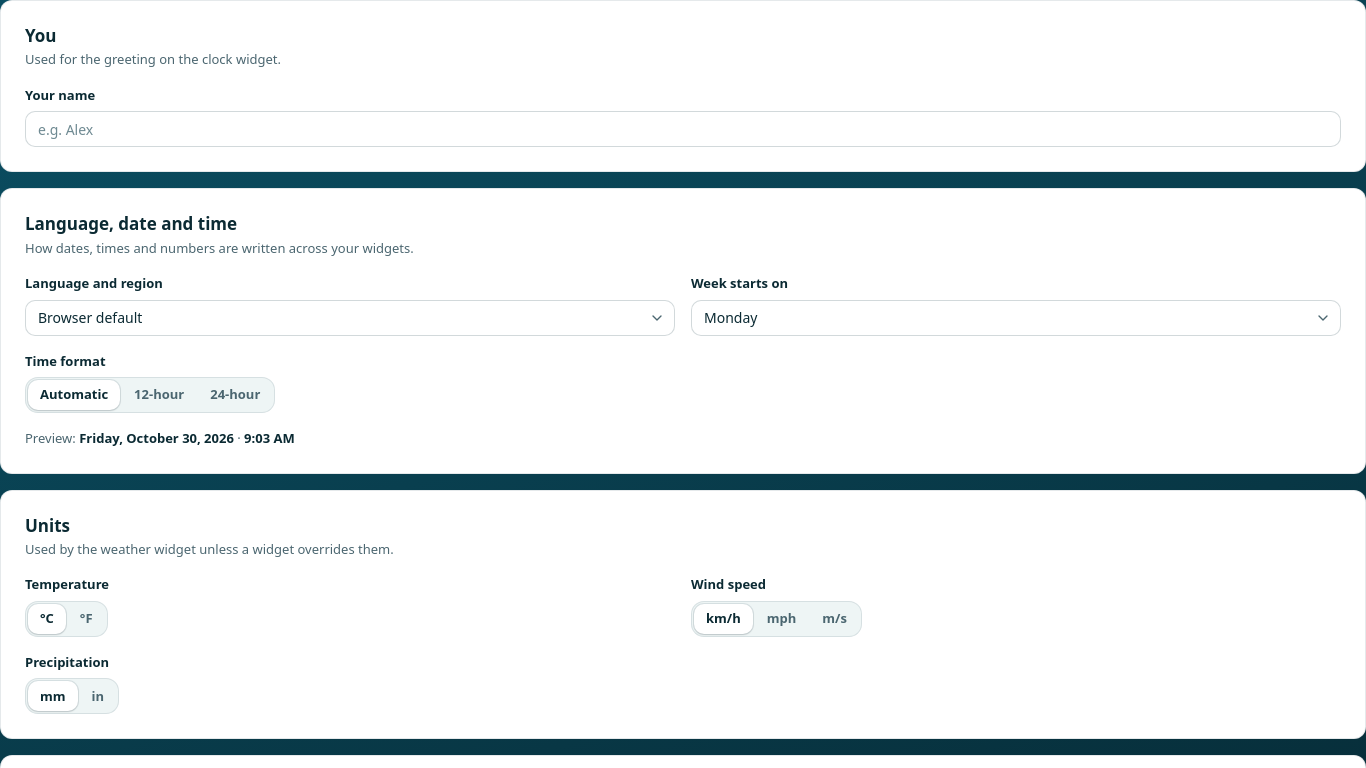
Test case: General settings (saved as you go, UX-5) › previews the date and time format live
The image size is (1366, 768).
Step 1. Click the radio button labelled "24-hour" → [235, 395], box [198,380,272,410]
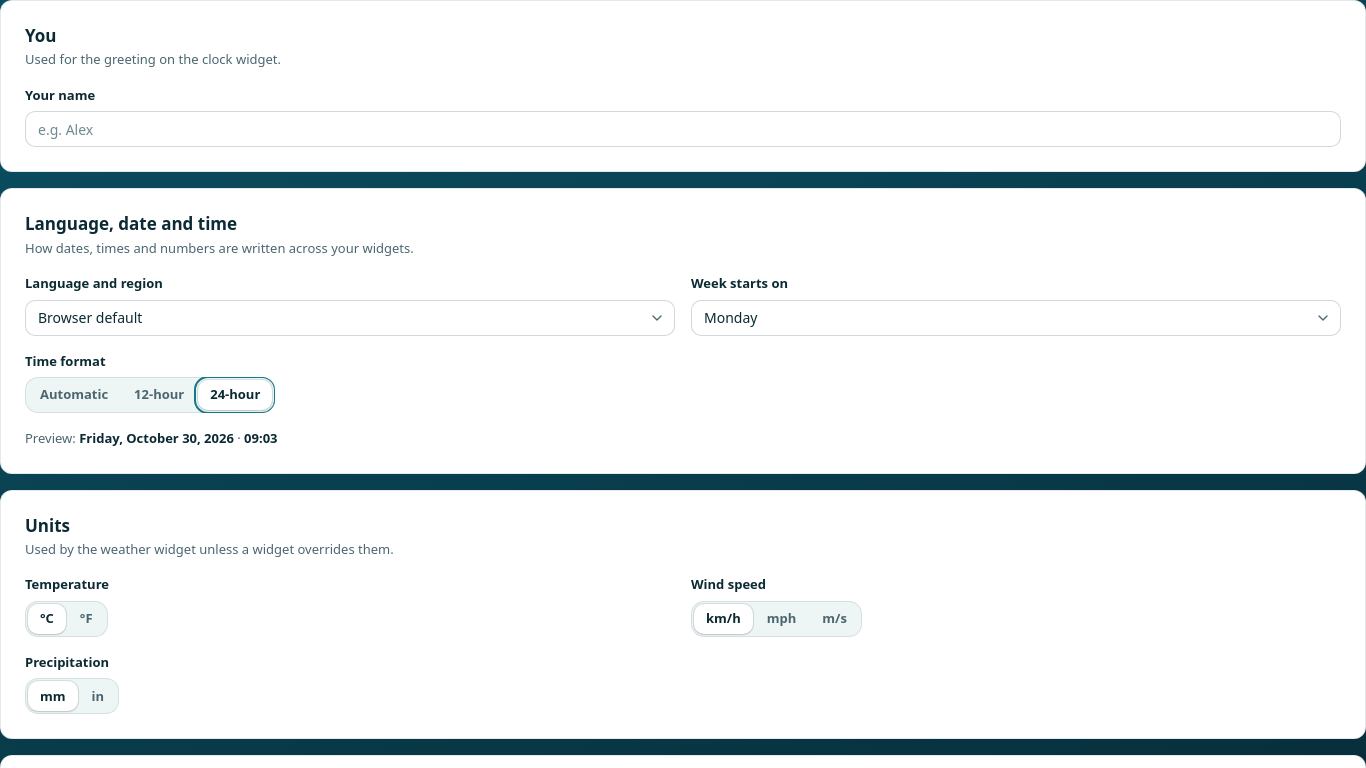
Step 2. Click the radio button labelled "12-hour" → [159, 395], box [122,380,196,410]
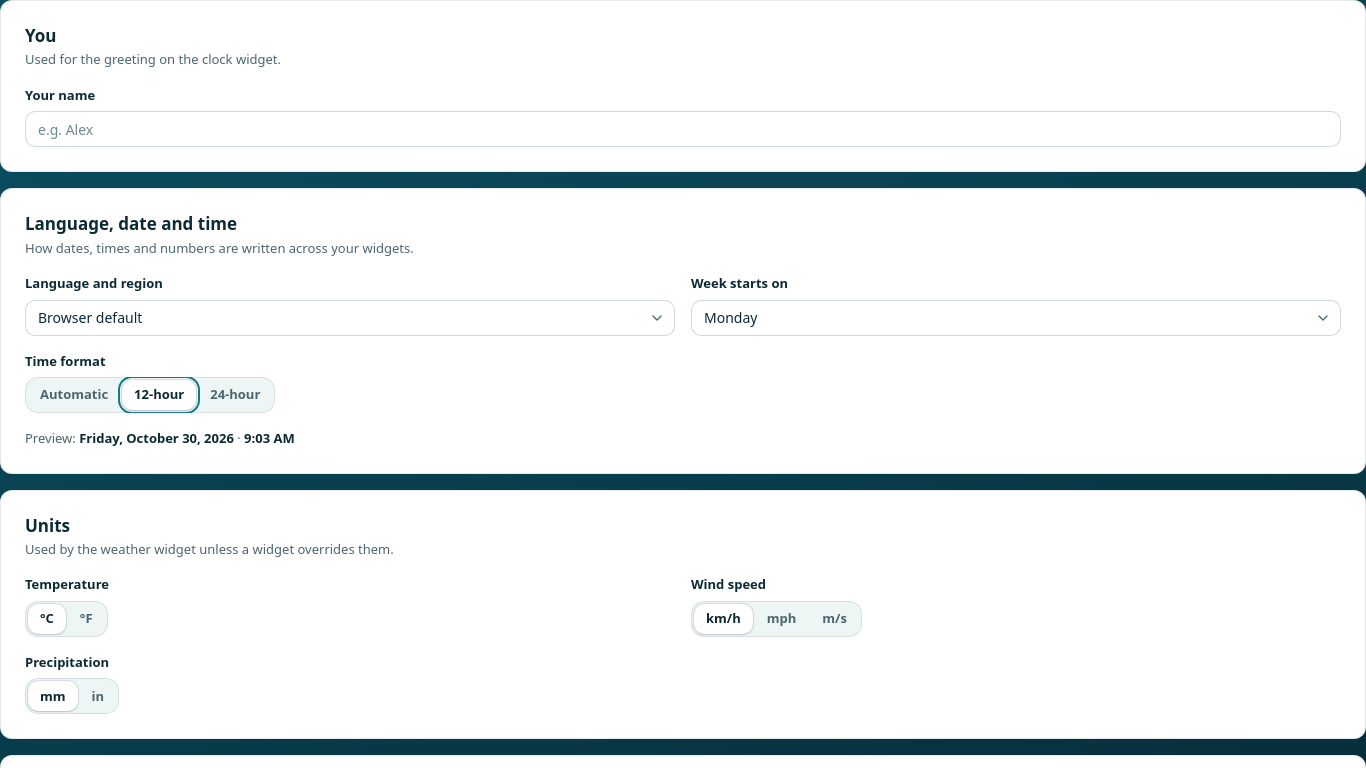
Expected: the text "9:03 AM" is shown, [244,429,295,447]
